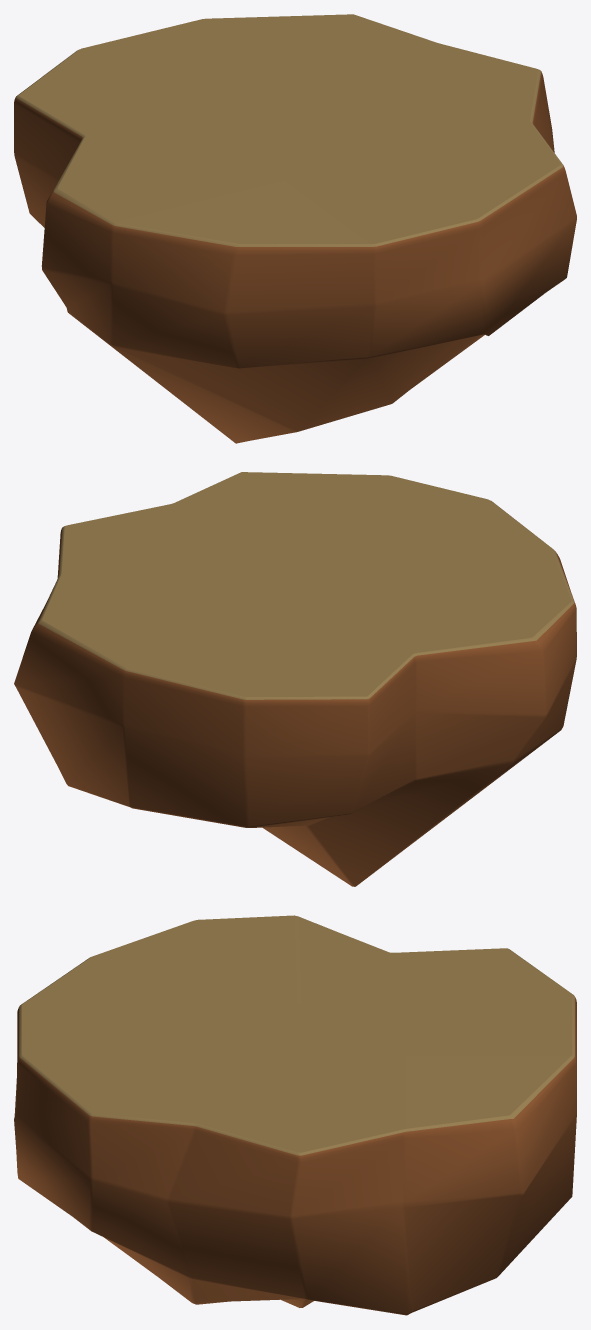
Rendered from Island_Desert_Large.fbx.
3 renders of one model, top to bottom at view 1: azimuth 30°, elevation 25°; view 2: azimuth 150°, elevation 25°; view 3: azimuth 270°, elevation 25°, orthographic. The views are drawn at different scales.
Parts seen in each view (by area): view 1: Island Desert Large; view 2: Island Desert Large; view 3: Island Desert Large.
Part boxes in pixels (x1=…): Island Desert Large: x1=14, y1=14, x2=576, y2=443; Island Desert Large: x1=14, y1=472, x2=576, y2=886; Island Desert Large: x1=14, y1=915, x2=576, y2=1315.
Bounding box in the file's own units: 9448 × 5357 × 9032.
